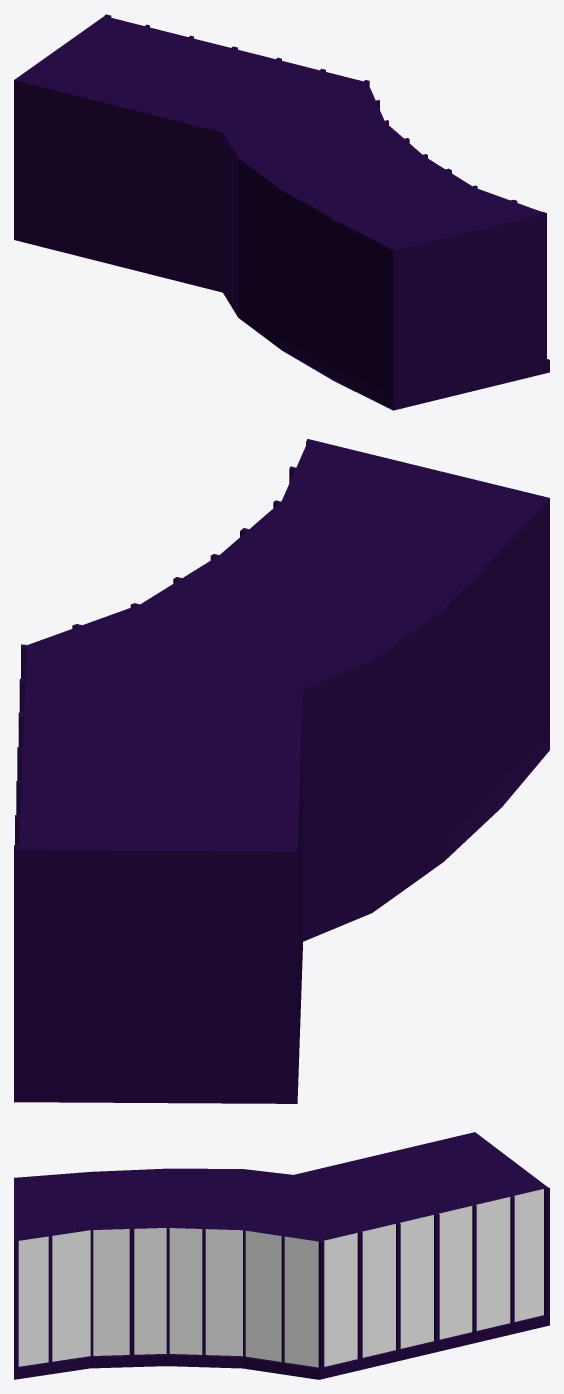
The model's file is skyskeeper.glb.
3 views of the same model, one above another, from view 1: azimuth 30°, elevation 25°; view 2: azimuth 150°, elevation 25°; view 3: azimuth 270°, elevation 25° (orthographic). The views are drawn at different scales.
Visible parts, largest first — view 1: z, Cube; view 2: Cube, z; view 3: z, Cube.
Boxes of the visible parts, x1,y1,x2,y2 form: z: [223, 83, 549, 410]; Cube: [14, 14, 369, 292]; Cube: [14, 644, 304, 1103]; z: [28, 439, 549, 941]; z: [14, 1168, 318, 1379]; Cube: [246, 1132, 549, 1379].
Bounding box in the file's own units: 13.94 × 8.02 × 28.41.
